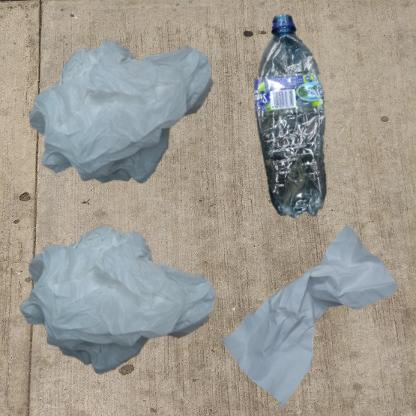bolsa: (10, 10, 265, 232), (10, 213, 236, 401)
botella: (213, 10, 404, 265)
papel: (213, 213, 407, 416)
